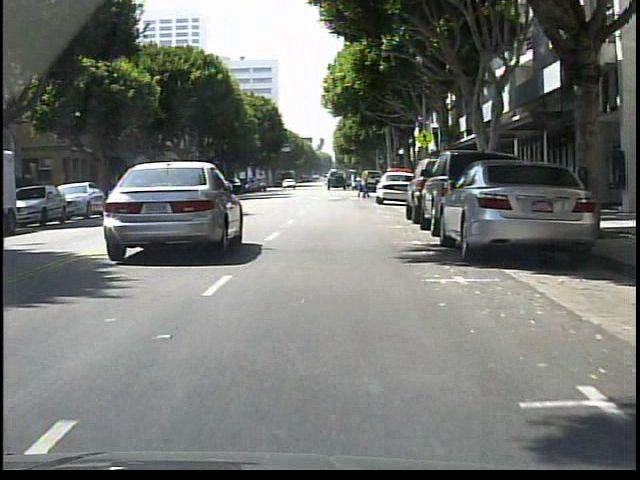person: (356, 169, 370, 198), (353, 169, 354, 189)
